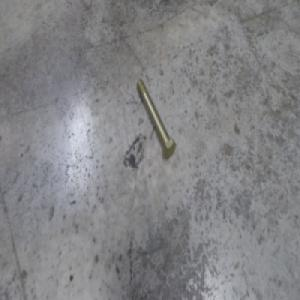Bolt: (134, 78, 175, 162)
